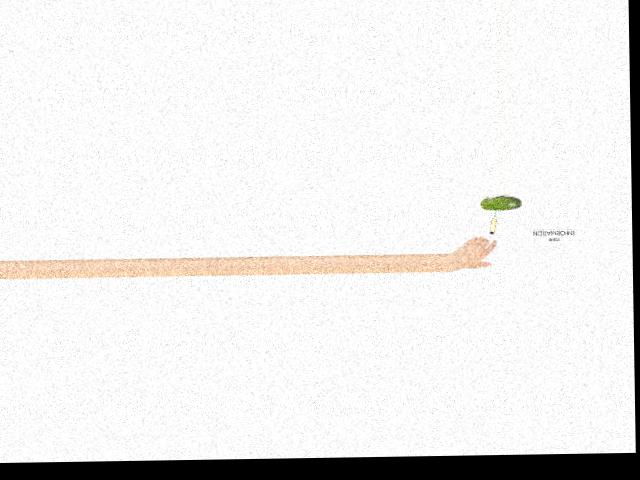cucumber: (479, 196, 521, 210)
